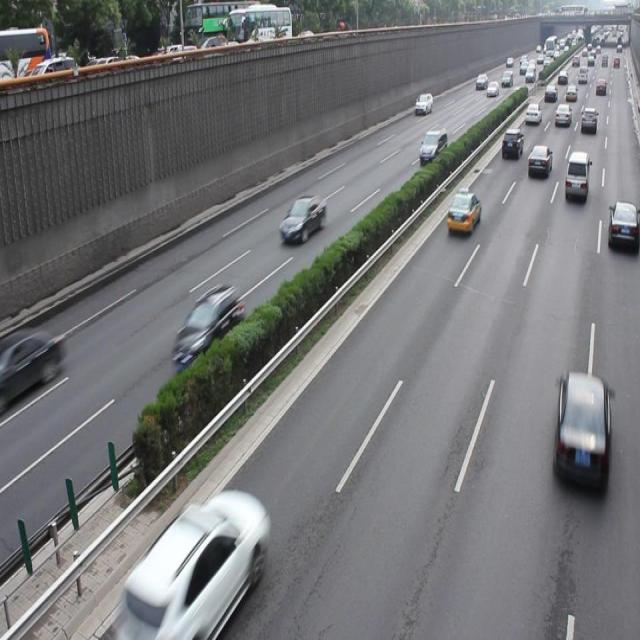car: (120, 489, 267, 640), (553, 368, 610, 496), (172, 284, 243, 374), (279, 194, 326, 244), (606, 200, 640, 252), (445, 191, 480, 236), (526, 143, 551, 177)
truck: (563, 150, 587, 200), (418, 127, 446, 165)
